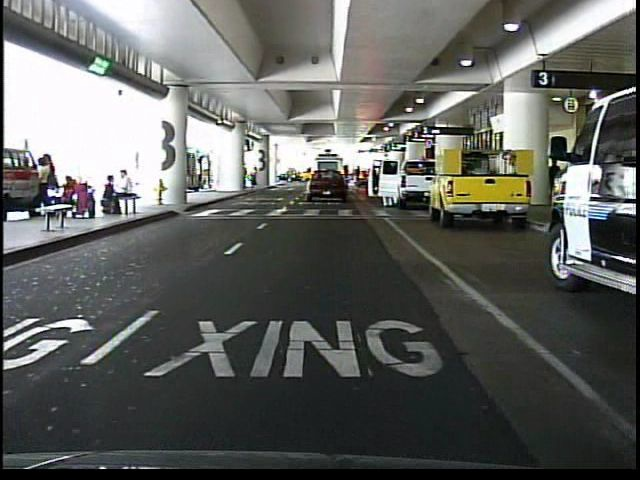person: (542, 153, 566, 206), (249, 166, 261, 191)
